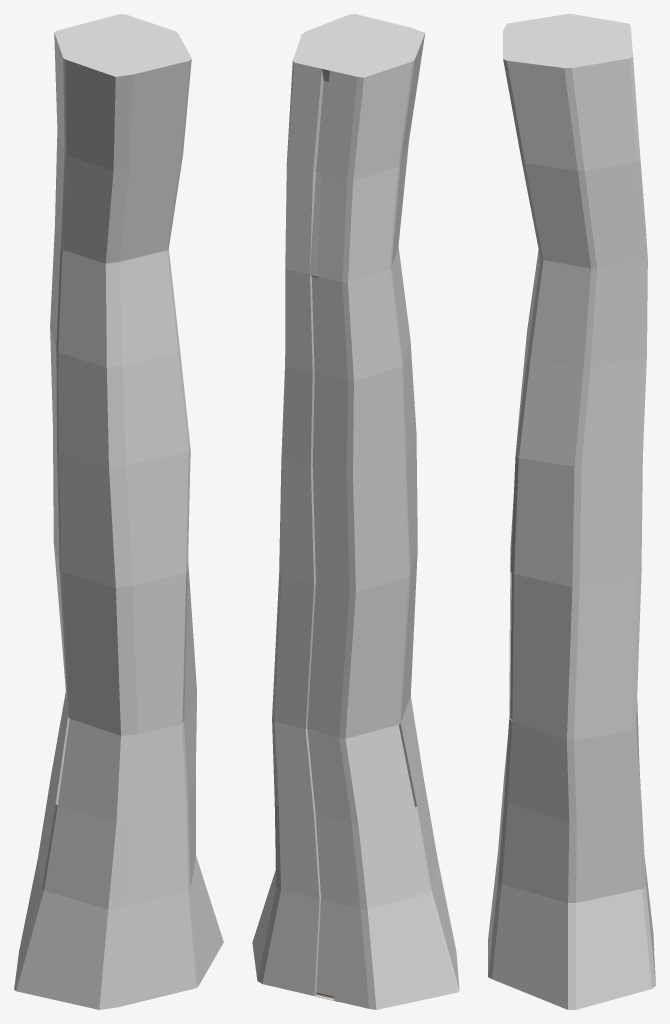
File: resource__surrounding__tree_trunk-slim_1.fbx
3 views of the same model, side by side, from view 1: azimuth 30°, elevation 25°; view 2: azimuth 150°, elevation 25°; view 3: azimuth 270°, elevation 25° (orthographic).
Parts seen in each view (by area): view 1: Map_Surrounding_TreeTrunk_Slim_1; view 2: Map_Surrounding_TreeTrunk_Slim_1; view 3: Map_Surrounding_TreeTrunk_Slim_1.
Boxes of the visible parts, box(x1,y1,x2,y2) form: Map_Surrounding_TreeTrunk_Slim_1: box(14, 14, 223, 1009); Map_Surrounding_TreeTrunk_Slim_1: box(252, 14, 459, 1009); Map_Surrounding_TreeTrunk_Slim_1: box(488, 14, 655, 1009).
Size of the model in its own units: 139 by 596 by 98.27.
